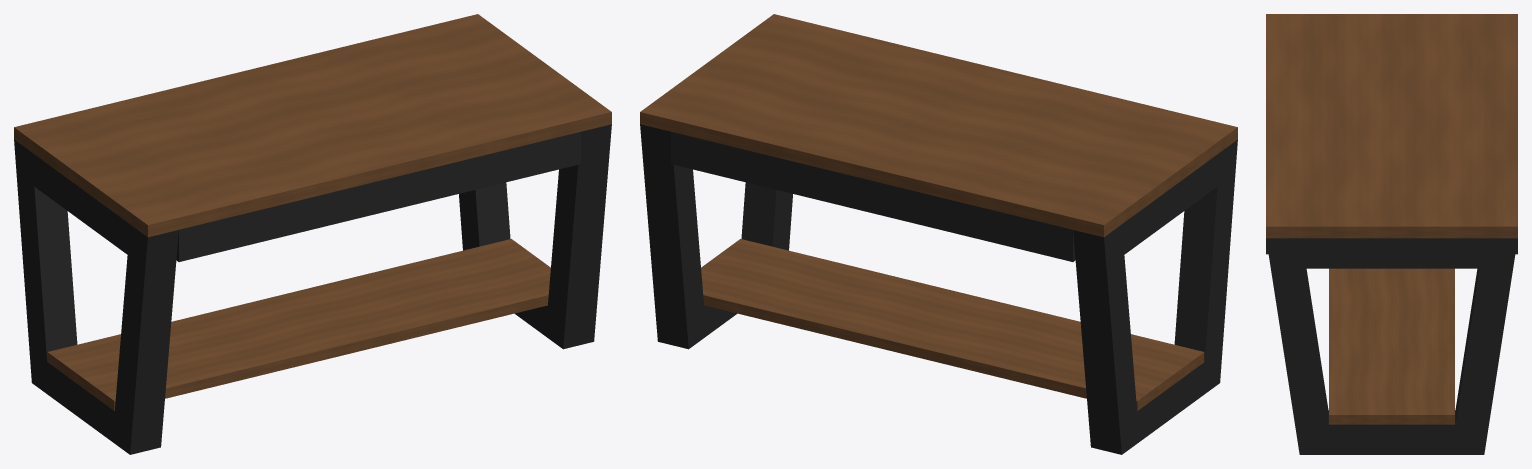
File: mesa-living-nord-estante-nogal-negro-8cm.glb
3 renders of one model, left to right at view 1: azimuth 30°, elevation 25°; view 2: azimuth 150°, elevation 25°; view 3: azimuth 270°, elevation 25°, orthographic. The views are drawn at different scales.
Parts seen in each view (by area): view 1: Tapa de madera maciza 120 x 60 x 3 cm, Patas inclinadas con cortes a inglete, Estante inferior de madera de 120 cm (proporción aproximada), Larguero longitudinal superior de hierro 8 x 8 mm, Travesaño superior del trapecio, perfil 8 cm, Travesaño inferior del trapecio, perfil 8 cm (×2); view 2: Tapa de madera maciza 120 x 60 x 3 cm, Patas inclinadas con cortes a inglete, Estante inferior de madera de 120 cm (proporción aproximada), Larguero longitudinal superior de hierro 8 x 8 mm, Travesaño superior del trapecio, perfil 8 cm, Travesaño inferior del trapecio, perfil 8 cm; view 3: Tapa de madera maciza 120 x 60 x 3 cm, Estante inferior de madera de 120 cm (proporción aproximada), Patas inclinadas con cortes a inglete, Travesaño superior del trapecio, perfil 8 cm, Travesaño inferior del trapecio, perfil 8 cm.
Boxes of the visible parts, <box> form: Tapa de madera maciza 120 x 60 x 3 cm: <box>14,14,611,237</box>; Patas inclinadas con cortes a inglete: <box>14,124,611,454</box>; Estante inferior de madera de 120 cm (proporción aproximada): <box>47,239,550,410</box>; Larguero longitudinal superior de hierro 8 x 8 mm: <box>176,132,580,261</box>; Travesaño superior del trapecio, perfil 8 cm: <box>32,153,138,262</box>; Travesaño inferior del trapecio, perfil 8 cm (×2): <box>47,305,554,446</box>; Tapa de madera maciza 120 x 60 x 3 cm: <box>640,14,1237,237</box>; Patas inclinadas con cortes a inglete: <box>640,124,1237,454</box>; Estante inferior de madera de 120 cm (proporción aproximada): <box>701,239,1204,410</box>; Larguero longitudinal superior de hierro 8 x 8 mm: <box>671,132,1075,261</box>; Travesaño superior del trapecio, perfil 8 cm: <box>1113,146,1228,254</box>; Travesaño inferior del trapecio, perfil 8 cm: <box>1137,362,1204,441</box>; Tapa de madera maciza 120 x 60 x 3 cm: <box>1266,14,1517,238</box>; Estante inferior de madera de 120 cm (proporción aproximada): <box>1329,268,1454,424</box>; Patas inclinadas con cortes a inglete: <box>1266,238,1517,454</box>; Travesaño superior del trapecio, perfil 8 cm: <box>1283,238,1500,268</box>; Travesaño inferior del trapecio, perfil 8 cm: <box>1316,410,1467,454</box>.
Size of the model in its own units: 1.2 by 0.6 by 0.6.
Materials: 2 (1 with a texture image).
